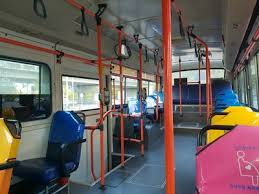seat: (28, 121, 80, 183)
